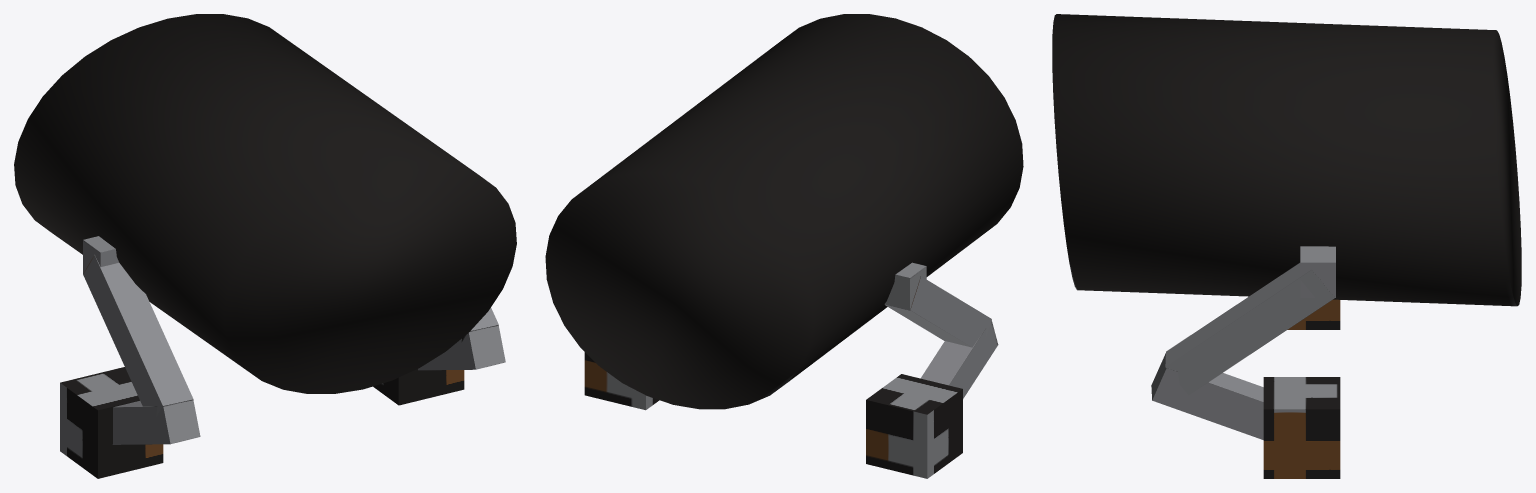
File: cannon.obj
3 renders of one model, left to right at view 1: azimuth 30°, elevation 25°; view 2: azimuth 150°, elevation 25°; view 3: azimuth 270°, elevation 25°, orthographic. The views are drawn at different scales.
Visible parts, largest first — view 1: 円柱, 立方体.001, 立方体.006, 立方体.003, 立方体.002, 立方体.005, 立方体; view 2: 円柱, 立方体.006, 立方体.001, 立方体.003, 立方体.005, 立方体; view 3: 円柱, 立方体.004, 立方体.005, 立方体.002, 立方体, 立方体.006.
Boxes of the visible parts, left/top/right/bottom form: 円柱: left=14, top=14, right=516, bottom=393; 立方体.001: left=83, top=255, right=193, bottom=416; 立方体.006: left=60, top=367, right=163, bottom=478; 立方体.003: left=112, top=400, right=200, bottom=444; 立方体.002: left=418, top=325, right=505, bottom=370; 立方体.005: left=373, top=369, right=464, bottom=405; 立方体: left=83, top=236, right=118, bottom=273; 円柱: left=545, top=14, right=1023, bottom=409; 立方体.006: left=866, top=374, right=962, bottom=478; 立方体.001: left=885, top=276, right=991, bottom=347; 立方体.003: left=920, top=320, right=998, bottom=398; 立方体.005: left=584, top=352, right=659, bottom=410; 立方体: left=884, top=262, right=926, bottom=310; 円柱: left=1052, top=14, right=1521, bottom=306; 立方体.004: left=1165, top=263, right=1334, bottom=395; 立方体.005: left=1263, top=377, right=1340, bottom=478; 立方体.002: left=1151, top=353, right=1263, bottom=439; 立方体: left=1300, top=246, right=1335, bottom=297; 立方体.006: left=1287, top=299, right=1340, bottom=329.
Size of the model in its own units: 2.47 by 2.22 by 2.7.
